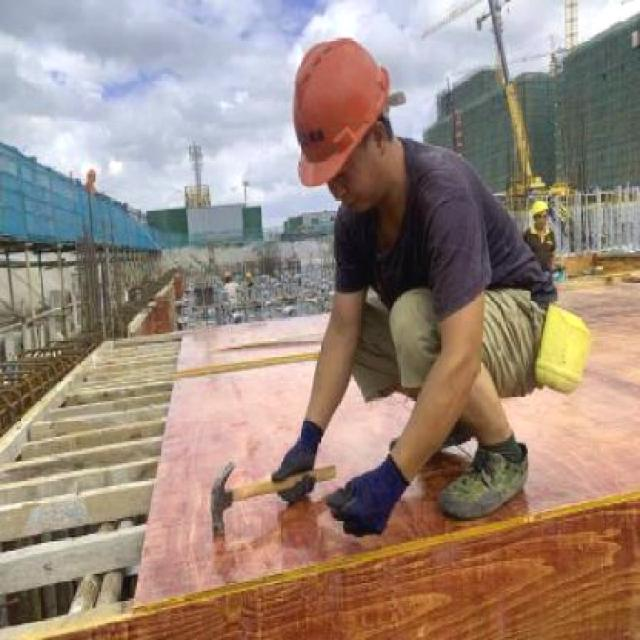face_nomask: (323, 128, 380, 220)
hand_glove: (326, 462, 396, 540), (269, 429, 320, 506)
head_helmet: (294, 31, 389, 191)
person: (205, 20, 568, 532)
shoes: (435, 431, 547, 518)
